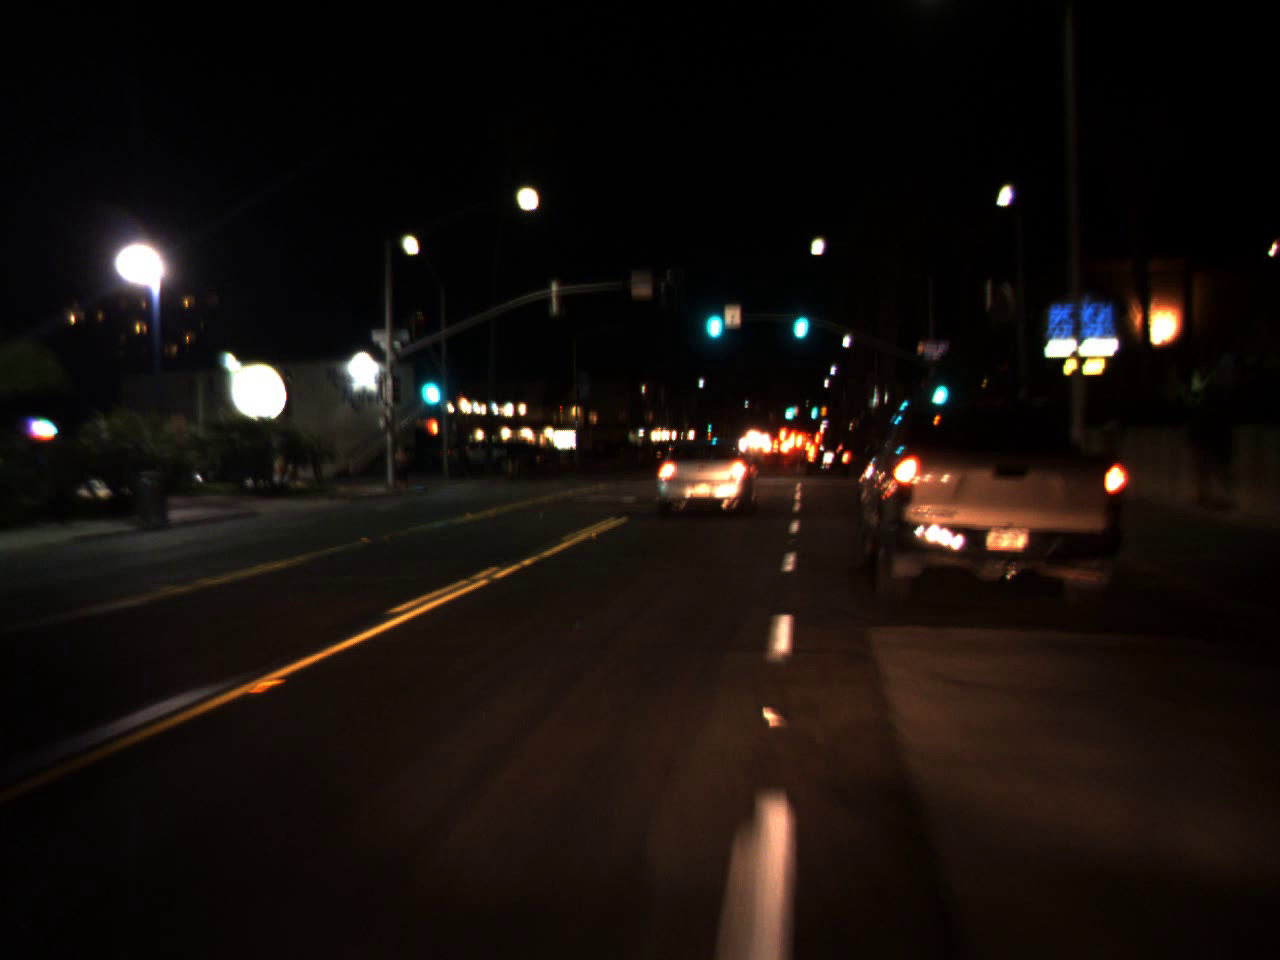go: (413, 354, 445, 414), (699, 284, 726, 347), (787, 291, 812, 345), (927, 359, 950, 413), (782, 394, 796, 421), (808, 399, 817, 417), (705, 414, 712, 435)
